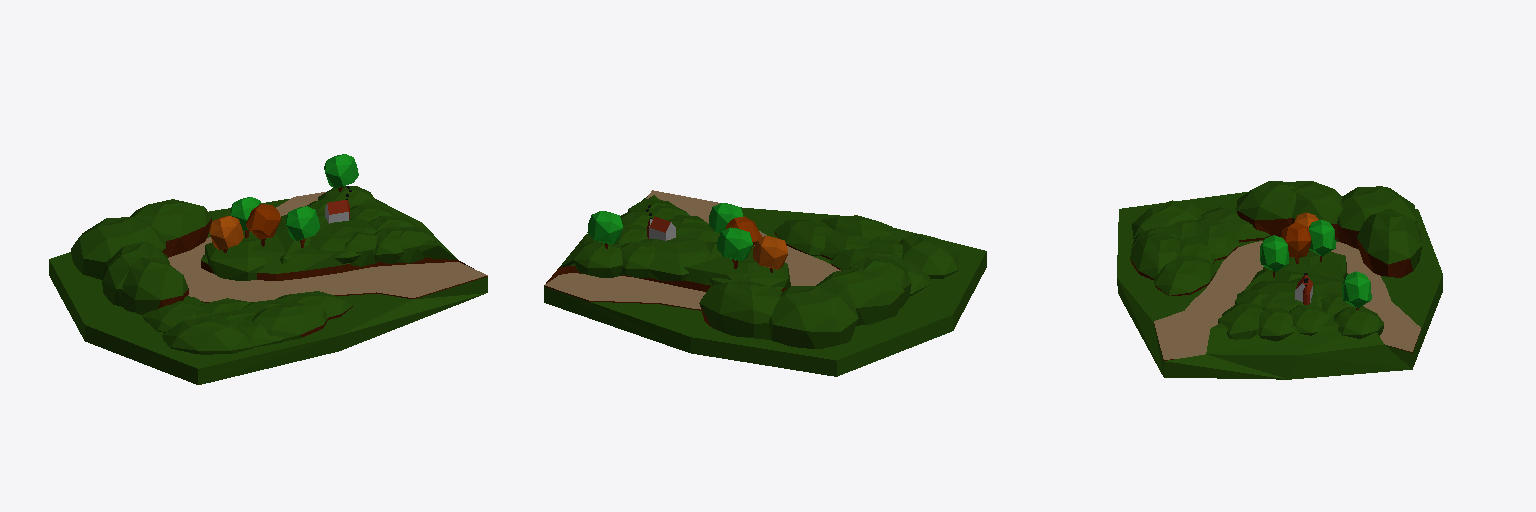
File: Road_1229.obj
3 renders of one model, left to right at view 1: azimuth 30°, elevation 25°; view 2: azimuth 150°, elevation 25°; view 3: azimuth 270°, elevation 25°, orthographic.
Visible parts, largest first — view 1: GeoSphere022; view 2: GeoSphere022; view 3: GeoSphere022.
Part boxes in pixels (x1,y1,x2,y2): GeoSphere022: (49, 154, 487, 384); GeoSphere022: (544, 190, 986, 376); GeoSphere022: (1117, 181, 1442, 379).
Bounding box in the file's own units: 225 × 51.07 × 178.